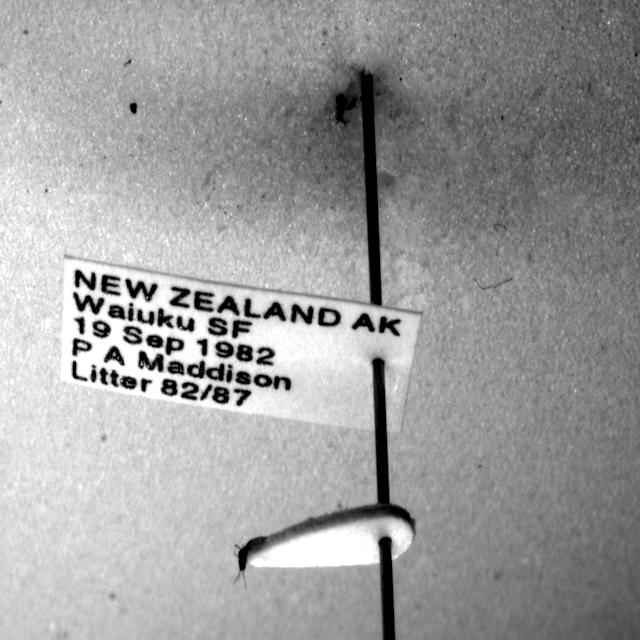typed_label: (61, 257, 421, 431)
